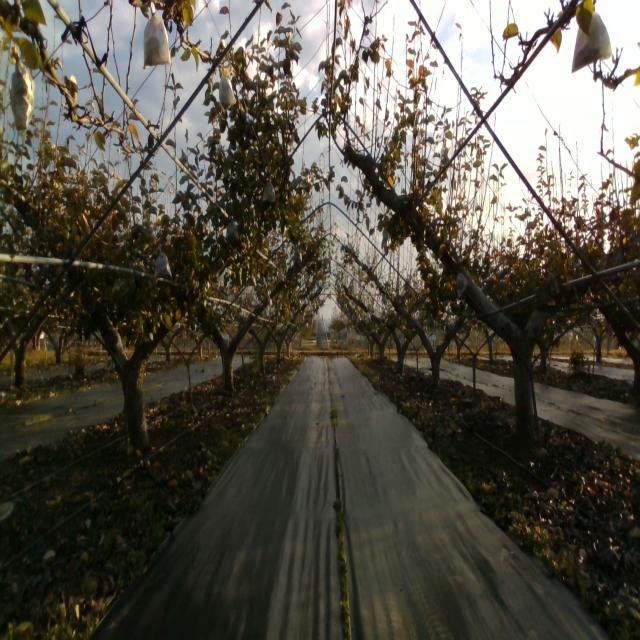pearbags: (571, 13, 612, 73), (10, 49, 36, 131), (142, 1, 172, 70), (219, 67, 237, 110), (154, 252, 172, 284), (226, 214, 241, 244), (262, 176, 277, 202), (456, 272, 468, 300)
